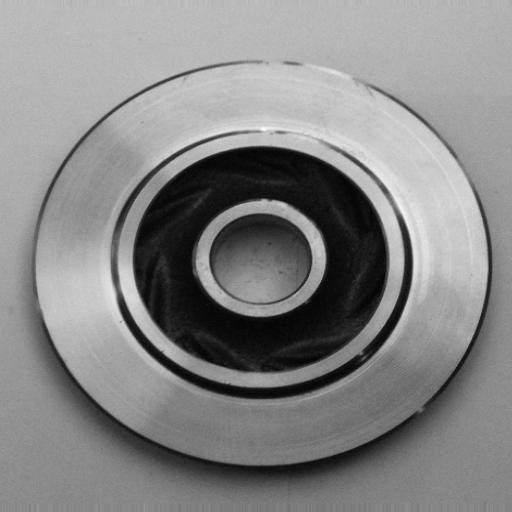scratch: (255, 45, 382, 103), (243, 117, 343, 156)
unpolished_casting: (29, 55, 493, 472)
